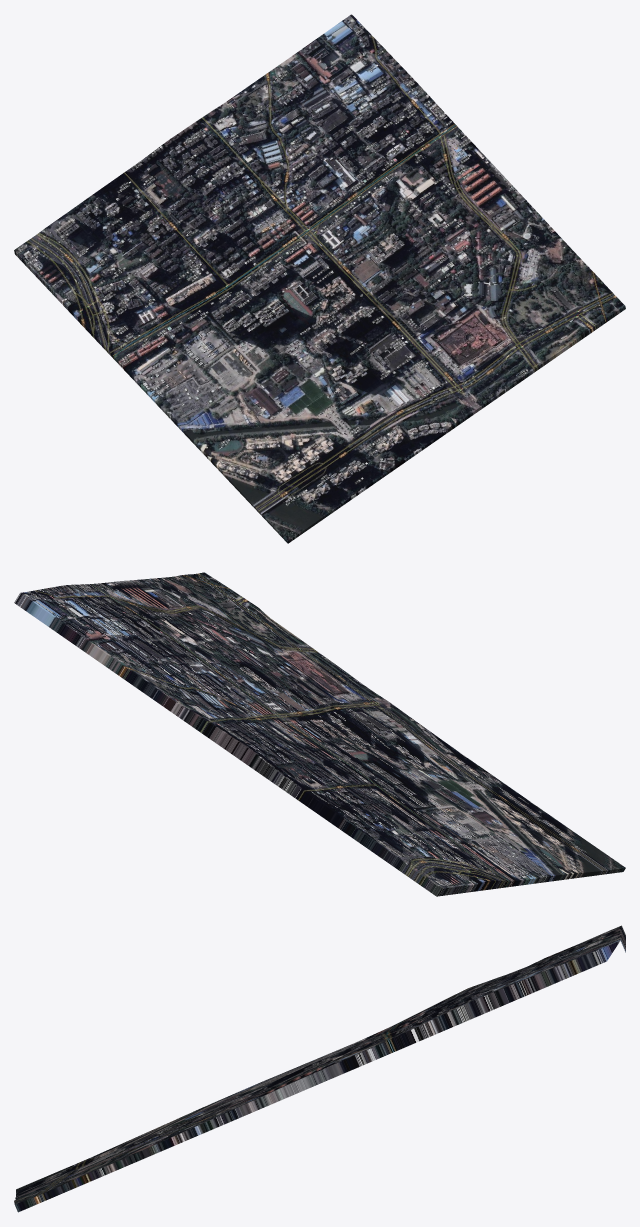
3 renders of one model, top to bottom at view 1: azimuth 30°, elevation 25°; view 2: azimuth 150°, elevation 25°; view 3: azimuth 270°, elevation 25°, orthographic. The views are drawn at different scales.
Parts seen in each view (by area): view 1: 1_7_11; view 2: 1_7_11; view 3: 1_7_11.
Boxes of the visible parts, x1,y1,x2,y2 form: 1_7_11: (14, 14, 625, 543); 1_7_11: (14, 572, 625, 896); 1_7_11: (14, 925, 625, 1212).
Bounding box in the file's own units: 1230 × 905 × 1127.
Materials: 1 (1 with a texture image).
